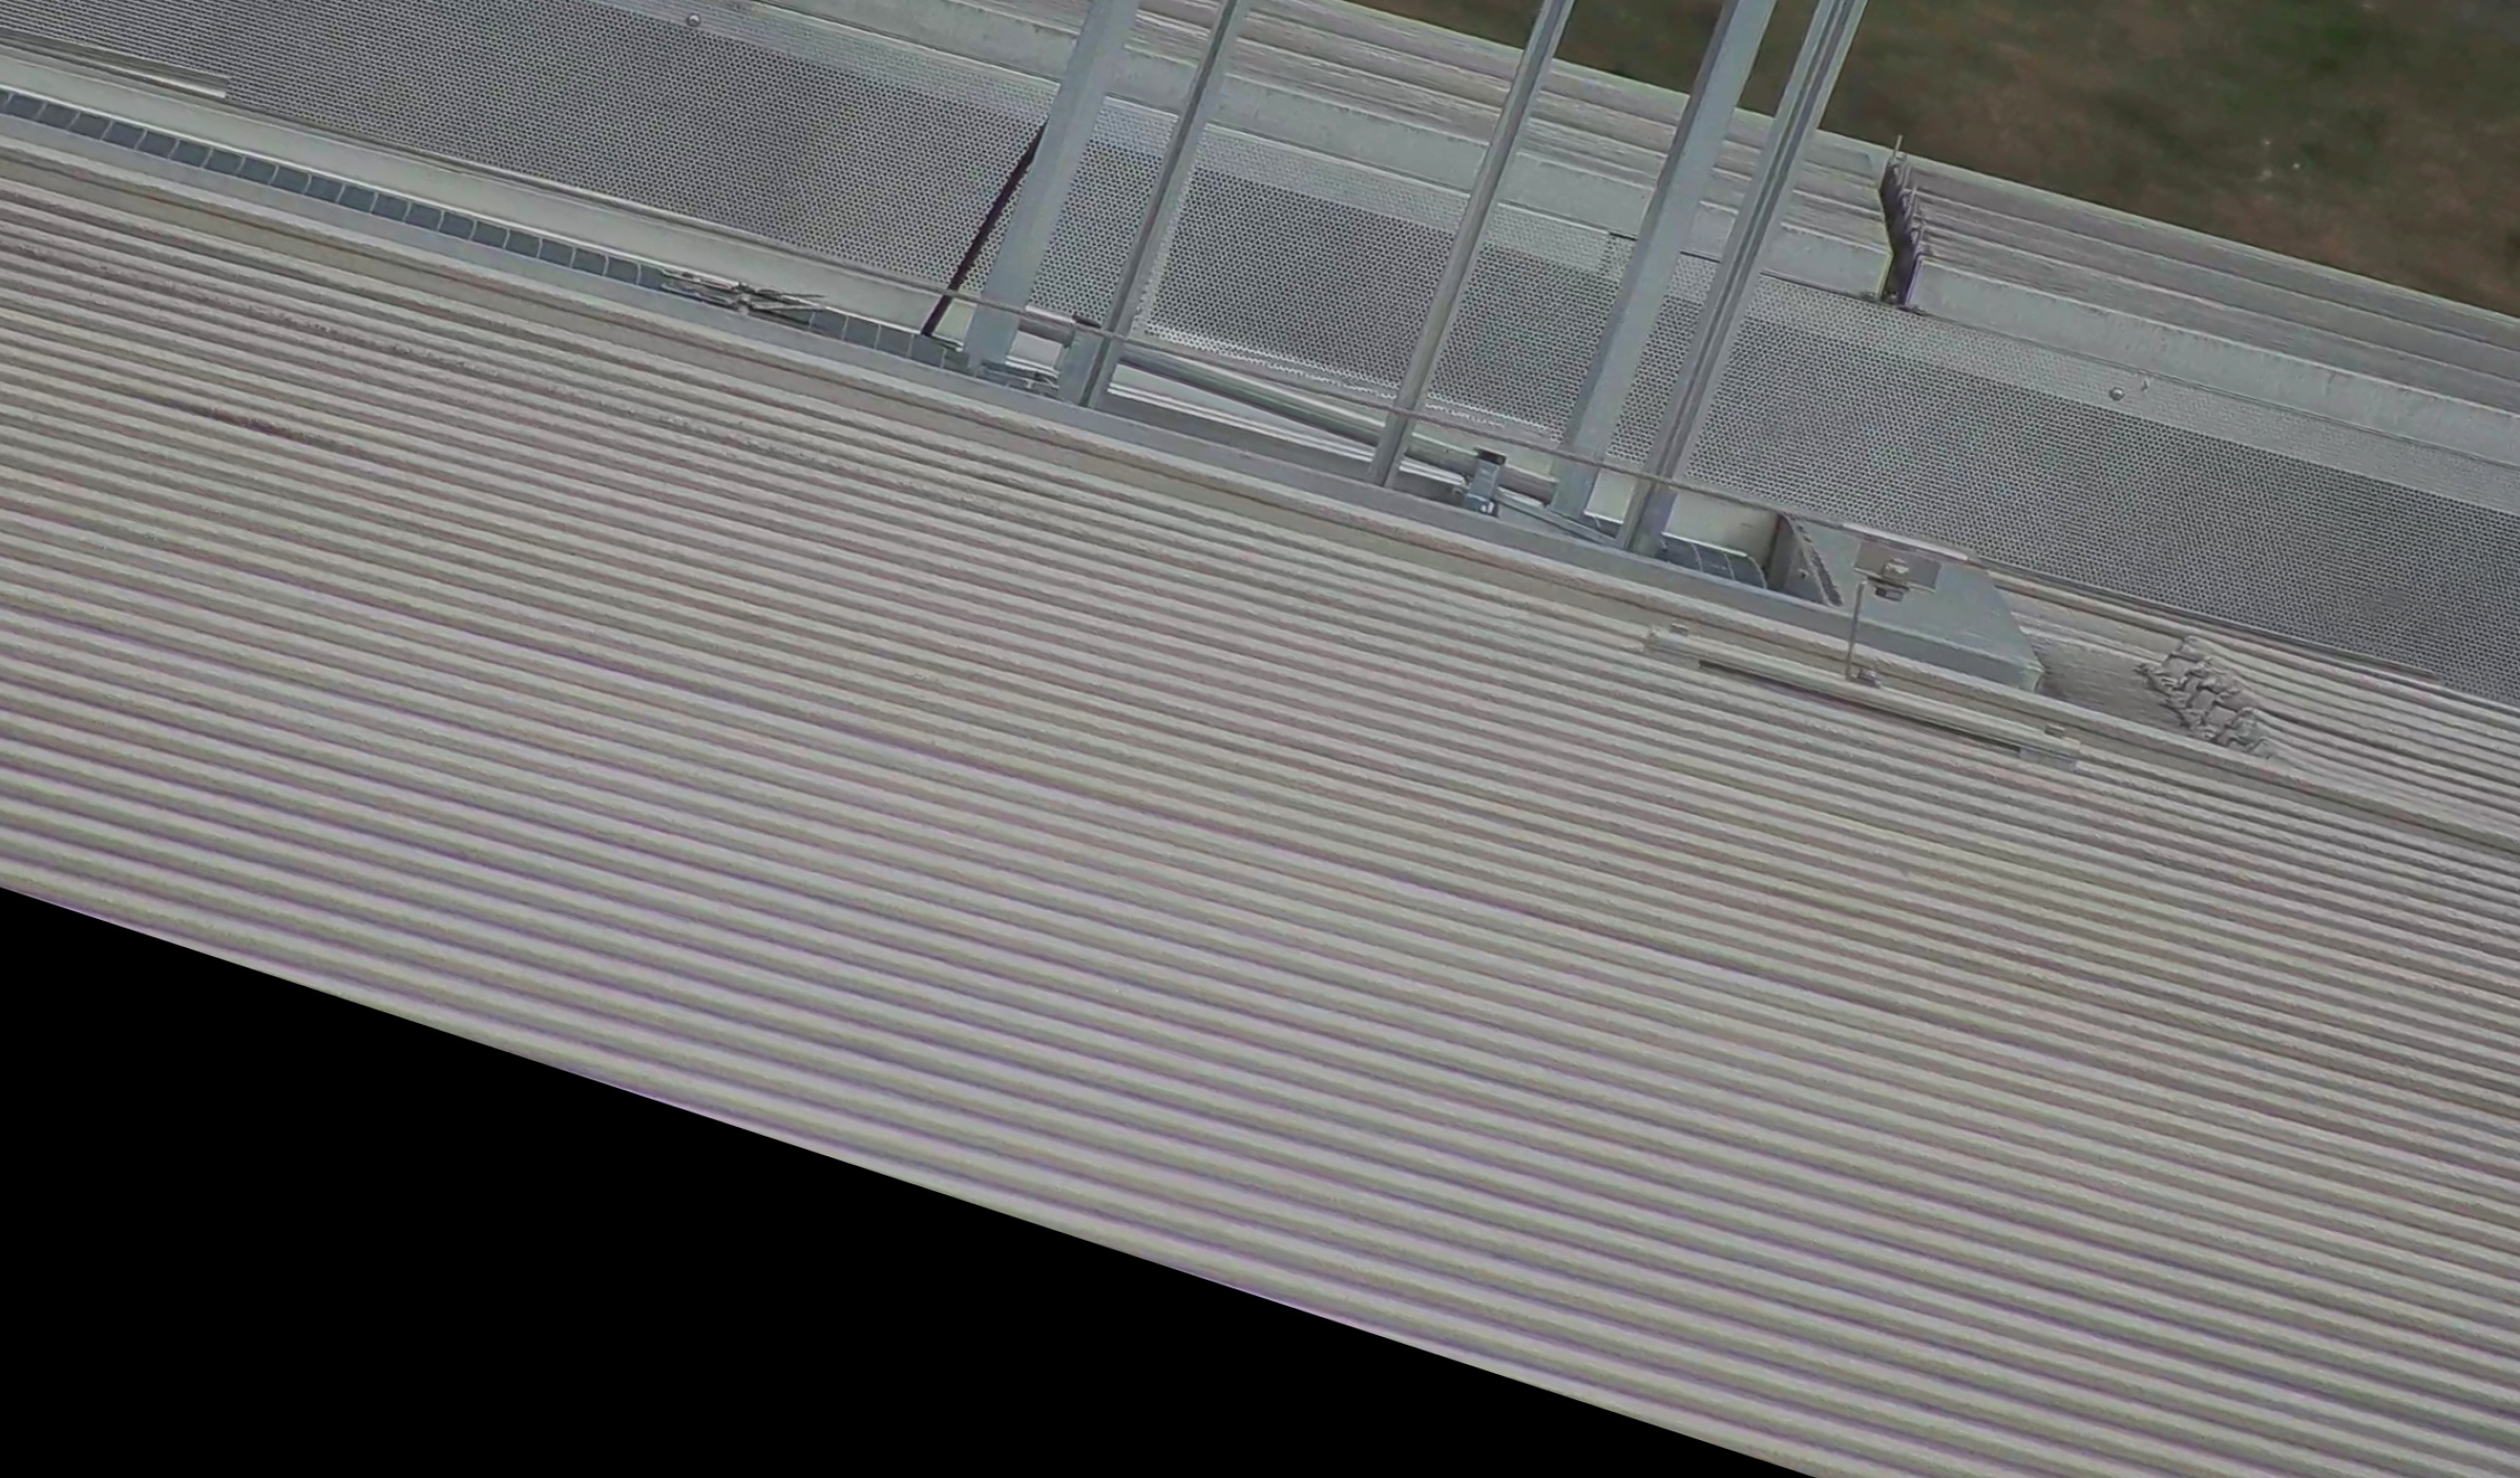Other: (1820, 125, 2001, 338)
